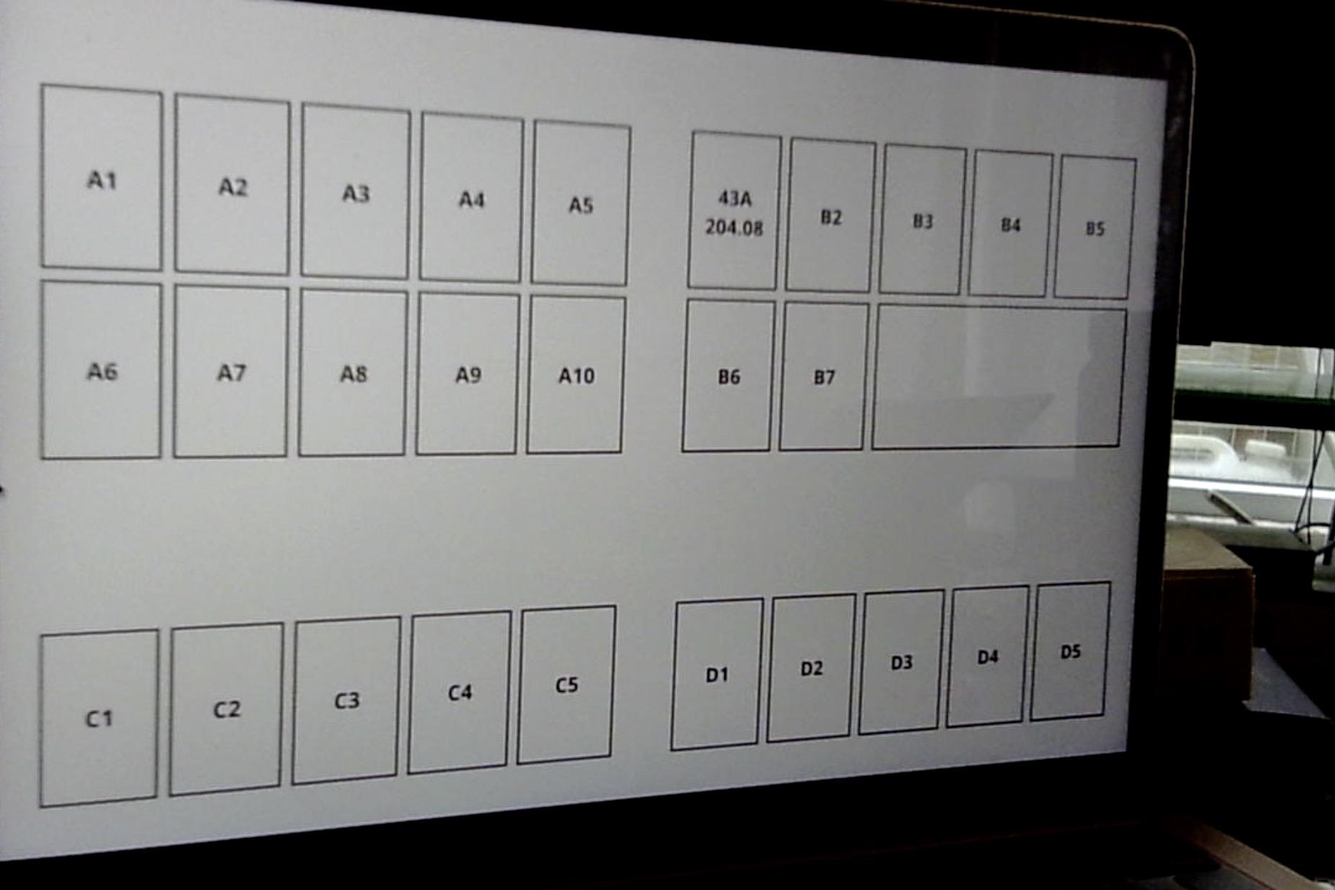parking space: (42, 84, 161, 270), (42, 282, 159, 459), (40, 630, 157, 806), (176, 94, 288, 274), (174, 286, 287, 458), (171, 623, 282, 794), (302, 103, 407, 277), (300, 290, 405, 457), (293, 618, 399, 783), (421, 114, 522, 283), (417, 293, 518, 454), (531, 121, 630, 285), (410, 611, 510, 772), (529, 296, 624, 452), (519, 607, 614, 763), (689, 131, 779, 289), (683, 300, 774, 450), (787, 138, 873, 292), (673, 599, 760, 749), (879, 144, 965, 295), (781, 303, 868, 449), (768, 593, 853, 742), (860, 589, 943, 734), (970, 150, 1051, 297), (1056, 156, 1136, 298), (948, 586, 1028, 726), (1030, 582, 1109, 720)
